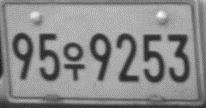2: (115, 32, 138, 82)
3: (167, 33, 190, 82)
5: (142, 33, 165, 82), (38, 33, 60, 81)
9: (89, 32, 111, 81), (11, 32, 33, 79)
우: (62, 41, 85, 81)
